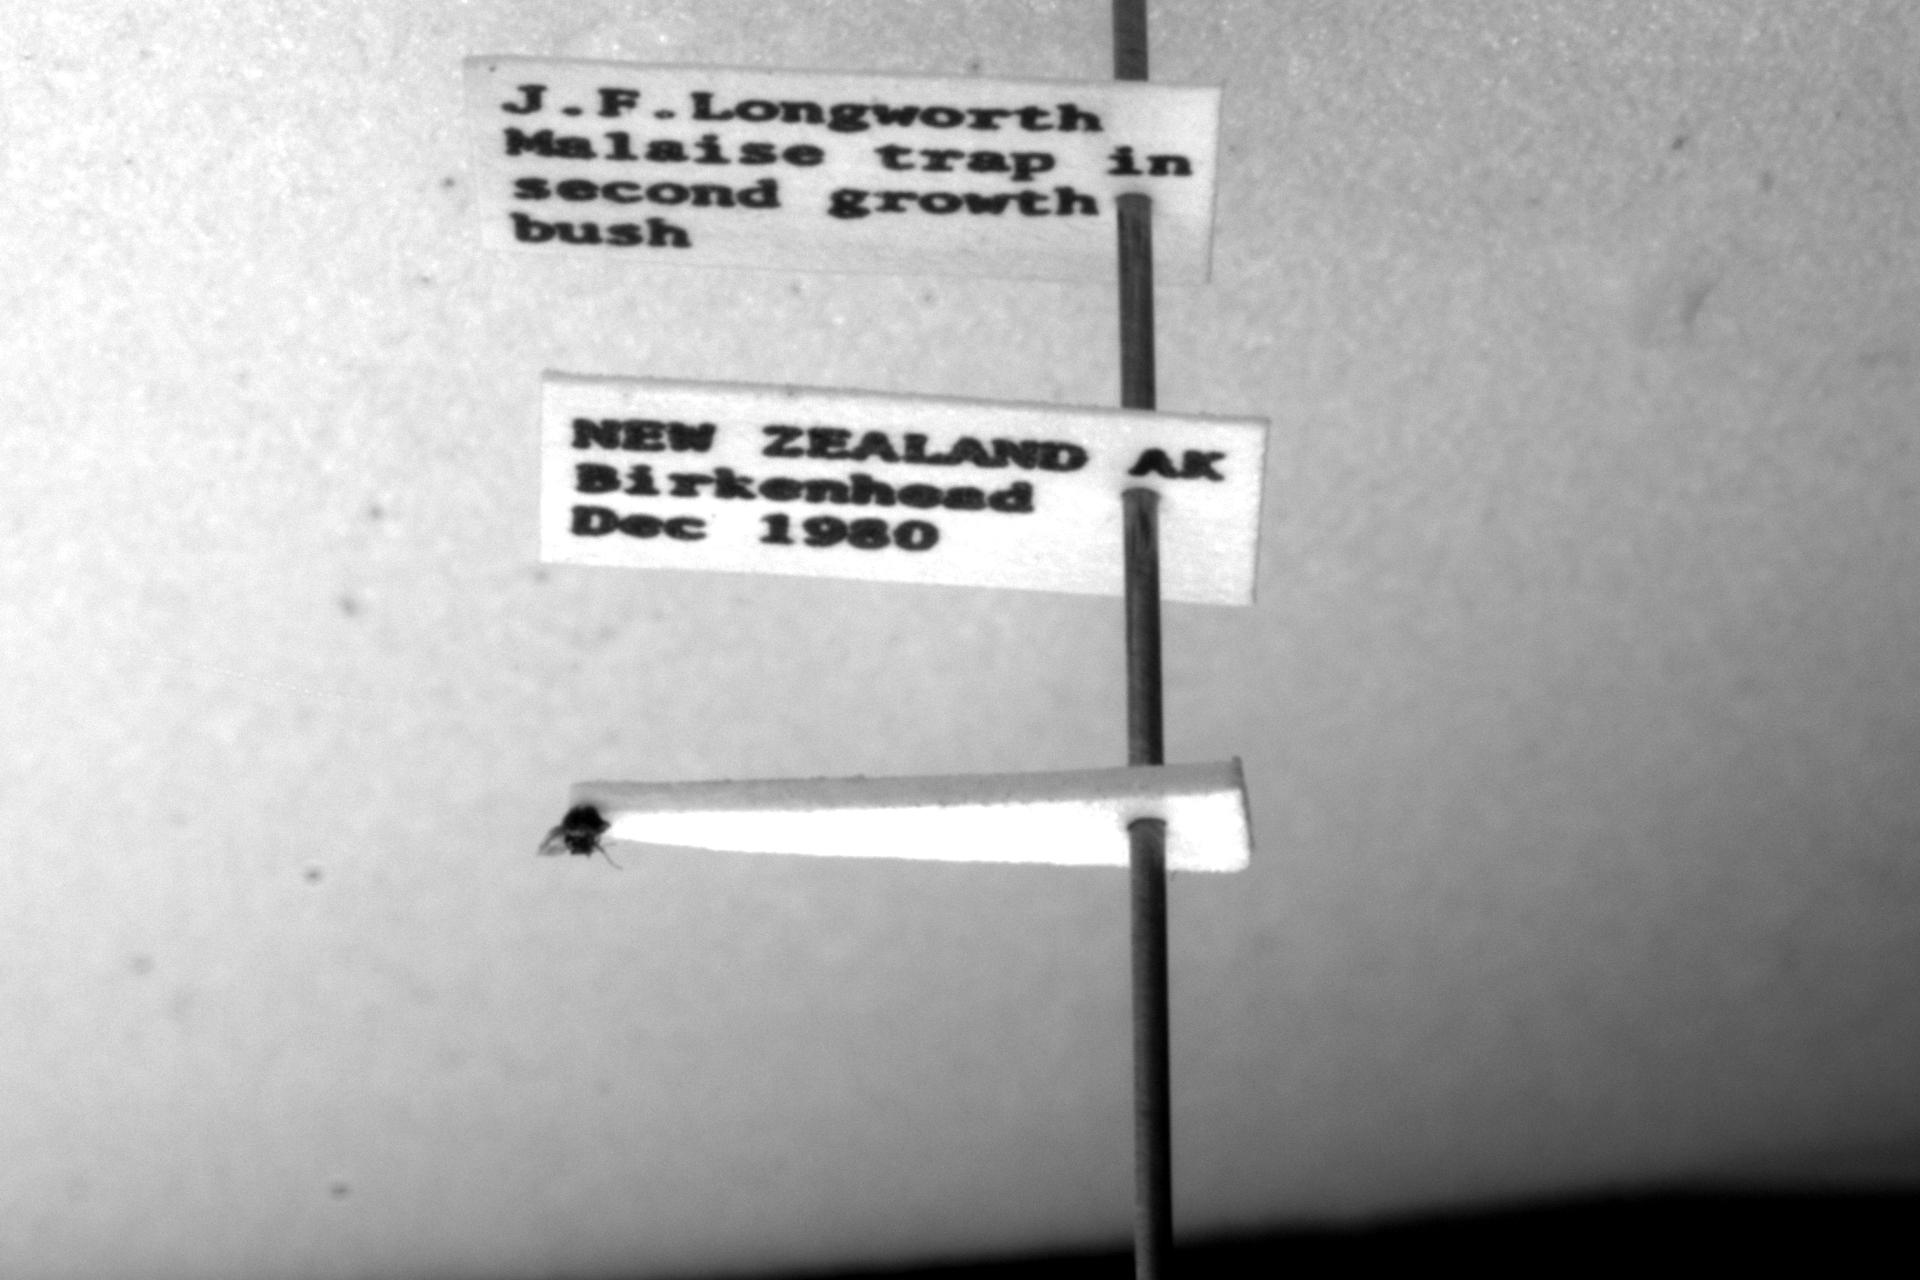typed_label: (465, 56, 1219, 285), (540, 375, 1268, 604)
